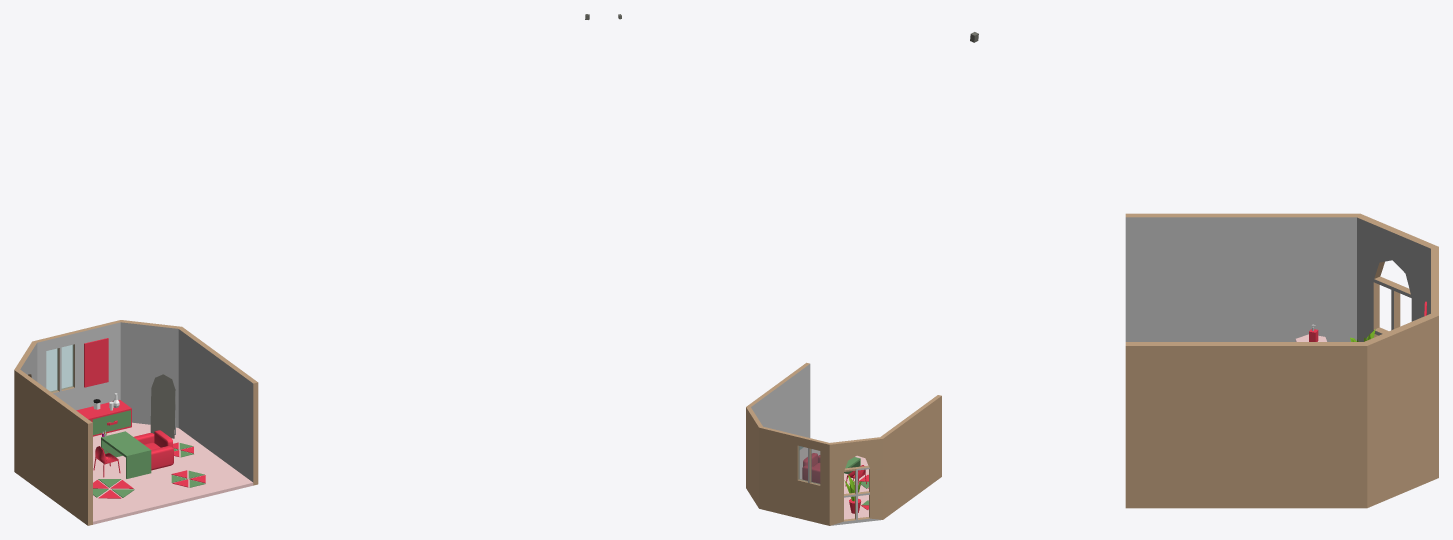
The model's file is room3.obj.
The picture shows the model from 3 angles, left to right: view 1: azimuth 30°, elevation 25°; view 2: azimuth 150°, elevation 25°; view 3: azimuth 270°, elevation 25°; orthographic projection. The views are drawn at different scales.
Visible parts, largest first — view 1: Cube.059, Cube.060, Cube.072, Circle, cabinet.005, Plane.009, Cube.062, Cube.063; view 2: Cube.059, Cube.060, Cube.062, Cube.063; view 3: Cube.059.
Part boxes in pixels (<box>): Cube.059: <box>14,320,258,525</box>; Cube.060: <box>93,422,253,524</box>; Cube.072: <box>101,431,151,478</box>; Circle: <box>150,14,589,438</box>; cabinet.005: <box>76,400,131,436</box>; Plane.009: <box>84,338,108,387</box>; Cube.062: <box>46,345,73,392</box>; Cube.063: <box>134,430,173,470</box>; Cube.059: <box>746,362,941,525</box>; Cube.060: <box>799,447,868,519</box>; Cube.062: <box>798,446,820,484</box>; Cube.063: <box>802,453,820,483</box>; Cube.059: <box>1125,213,1438,508</box>.
Bounding box in the file's own units: 182 × 167 × 102.
